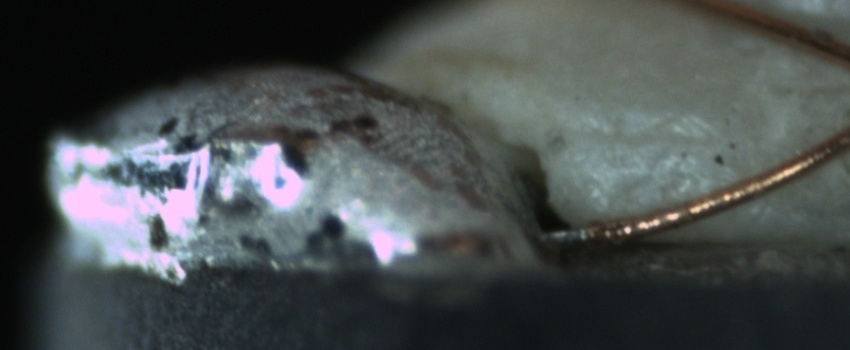DL: (563, 104, 718, 174)
